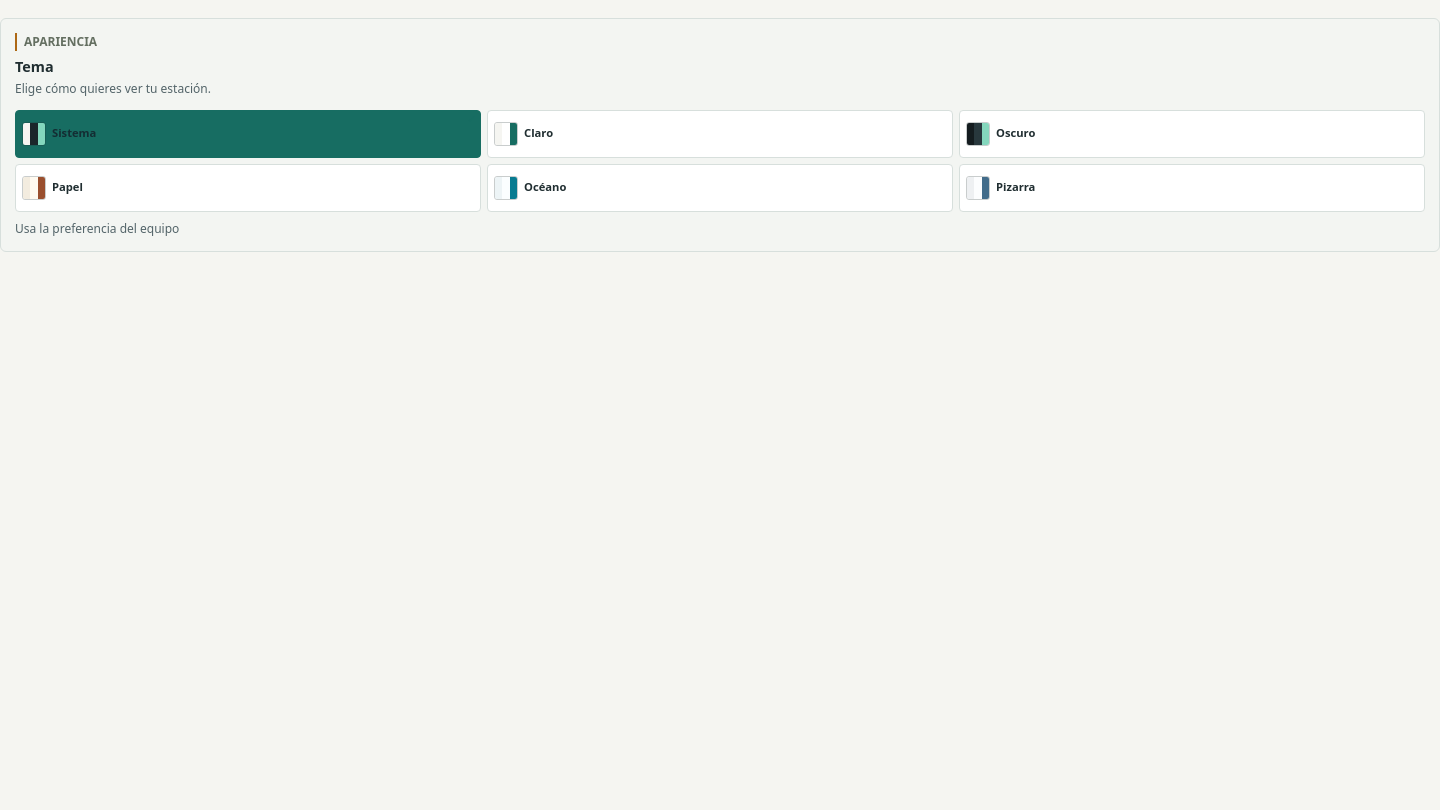
Test case: paletas adicionales del selector de tema › aplica y conserva la paleta Papel
This screenshot has width=1440, height=810.
Click the button "Papel".
click(67, 187)  # box x1=15 y1=164 x2=481 y2=212
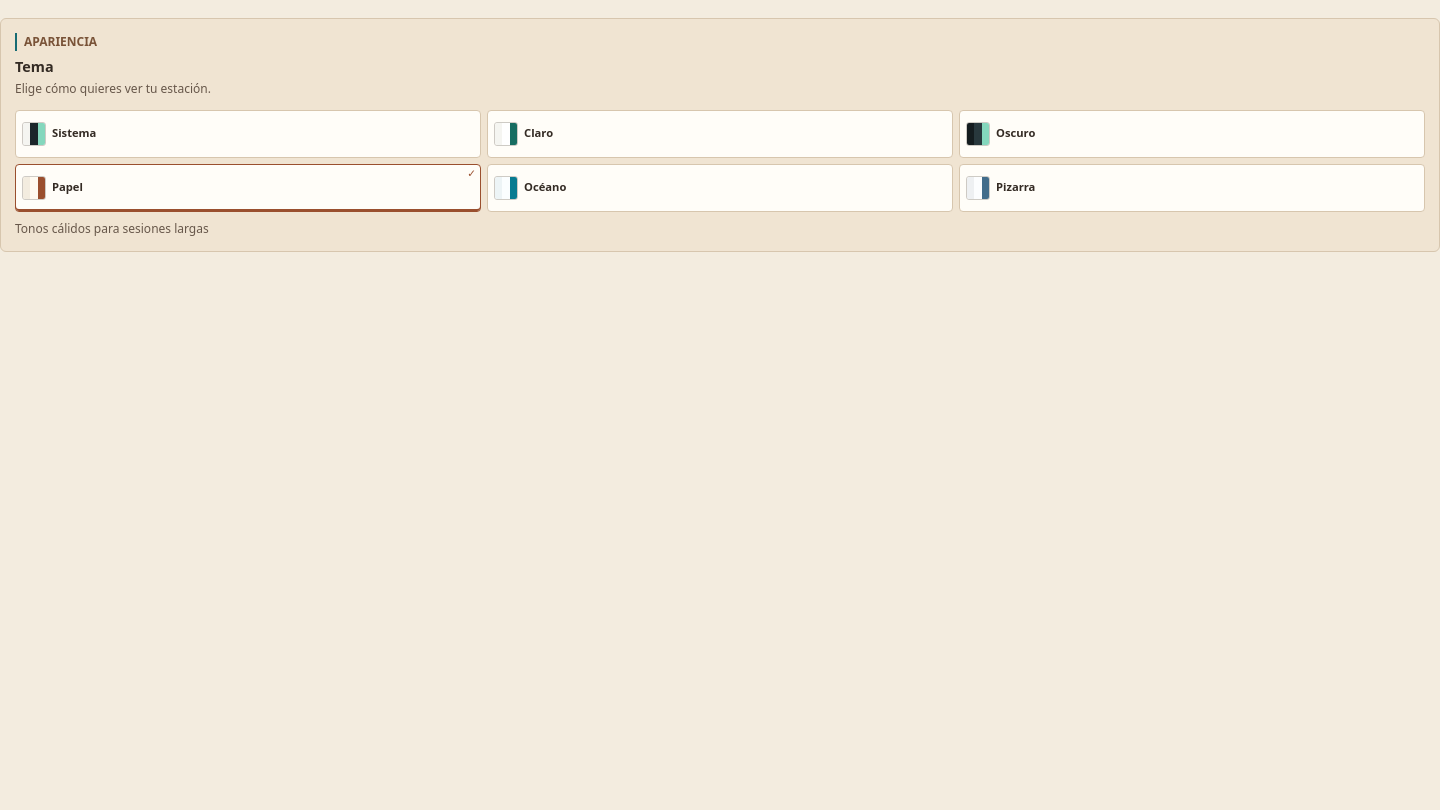
Result: the text "Tonos cálidos para sesiones largas" is shown at x1=15 y1=220 x2=209 y2=237
